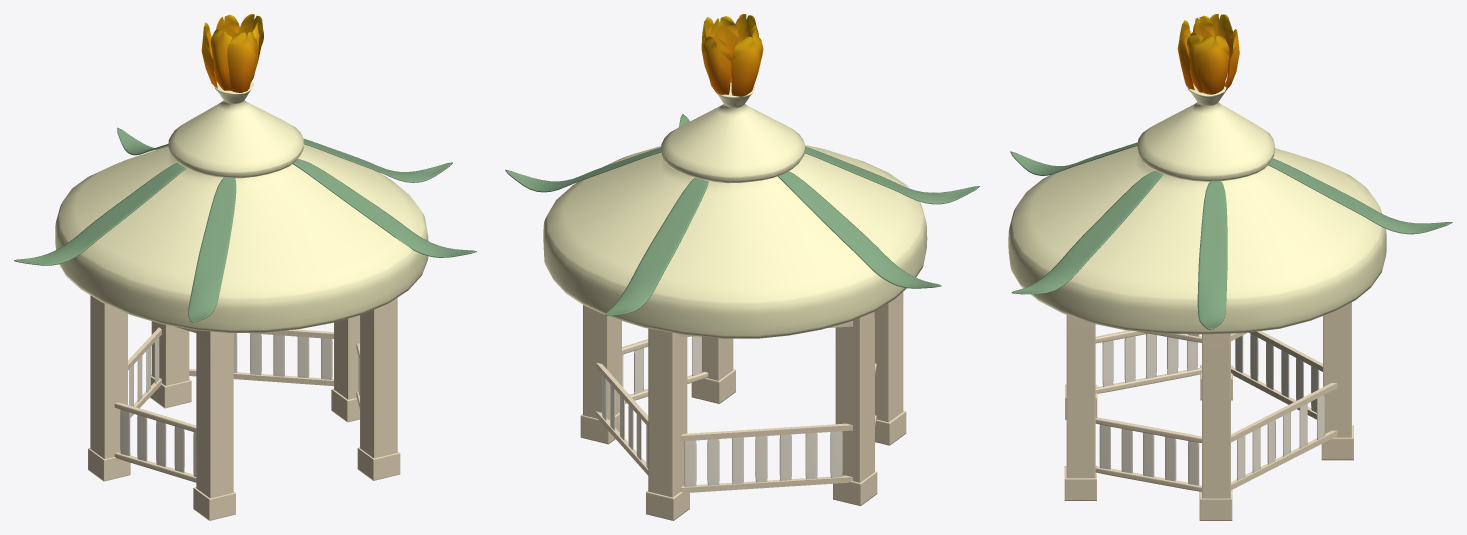
The picture shows the model from 3 angles, left to right: view 1: azimuth 30°, elevation 25°; view 2: azimuth 150°, elevation 25°; view 3: azimuth 270°, elevation 25°; orthographic projection. The views are drawn at different scales.
Parts seen in each view (by area): view 1: Box002, Box003, Box004, Box008, Box082, Box081, Box080, Box009, Box007, Line335, Box079, Box010 (+11 smaller); view 2: Box002, Box007, Box008, Box078, Box009, Box003, Box081, Box082, Line333, Box019, Line331, Box021 (+16 smaller); view 3: Box002, Box009, Box004, Box079, Box007, Box080, Box078, Line332, Box017, Box082, Box022, Box012 (+16 smaller).
Boxes of the visible parts, x1,y1,x2,y2 form: Box002: (55, 81, 428, 332); Box003: (196, 330, 233, 498); Box004: (360, 298, 397, 458); Box008: (90, 295, 127, 459); Box082: (188, 177, 236, 322); Box081: (14, 162, 186, 265); Box080: (293, 159, 476, 257); Box009: (334, 315, 359, 399); Box007: (151, 321, 189, 385); Line335: (227, 32, 257, 92); Box079: (303, 138, 452, 182); Box010: (357, 447, 400, 480); Box002: (543, 82, 927, 338); Box007: (648, 328, 687, 497); Box008: (835, 312, 874, 482); Box078: (605, 178, 708, 315); Box009: (583, 305, 621, 419); Box003: (874, 292, 903, 422); Box081: (778, 171, 941, 288); Box082: (804, 146, 979, 204); Line333: (731, 36, 763, 96); Box019: (680, 423, 852, 441); Line331: (702, 36, 731, 94); Box021: (680, 475, 852, 493); Box002: (1008, 83, 1386, 334); Box009: (1202, 333, 1230, 498); Box004: (1066, 315, 1095, 478); Box079: (1197, 181, 1227, 329); Box007: (1323, 302, 1351, 437); Box080: (1011, 171, 1163, 294); Box078: (1268, 158, 1452, 234); Line332: (1196, 36, 1229, 94); Box017: (1231, 383, 1337, 442); Box082: (1010, 142, 1137, 175); Box022: (1231, 430, 1337, 490); Box012: (1199, 490, 1232, 520).
Bounding box in the file's own units: 5522 × 5204 × 4866.
5 materials, 5 textured.
